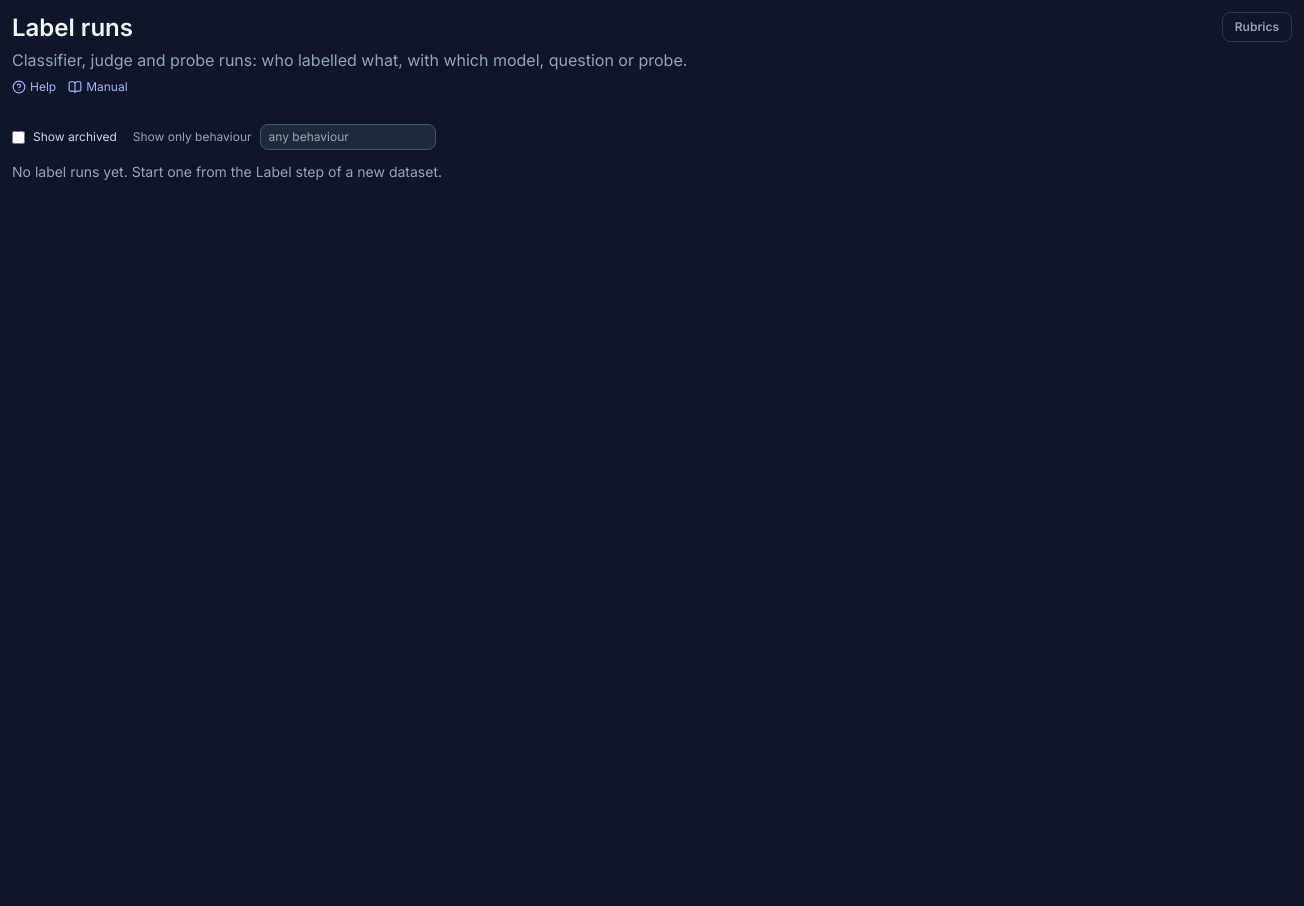
Scenario: Clone, import and export › clones with the body prefilled and edited, once
This screenshot has width=1304, height=906.
Click the button "Rubrics".
click(1257, 27)  # box [1222,12,1292,42]
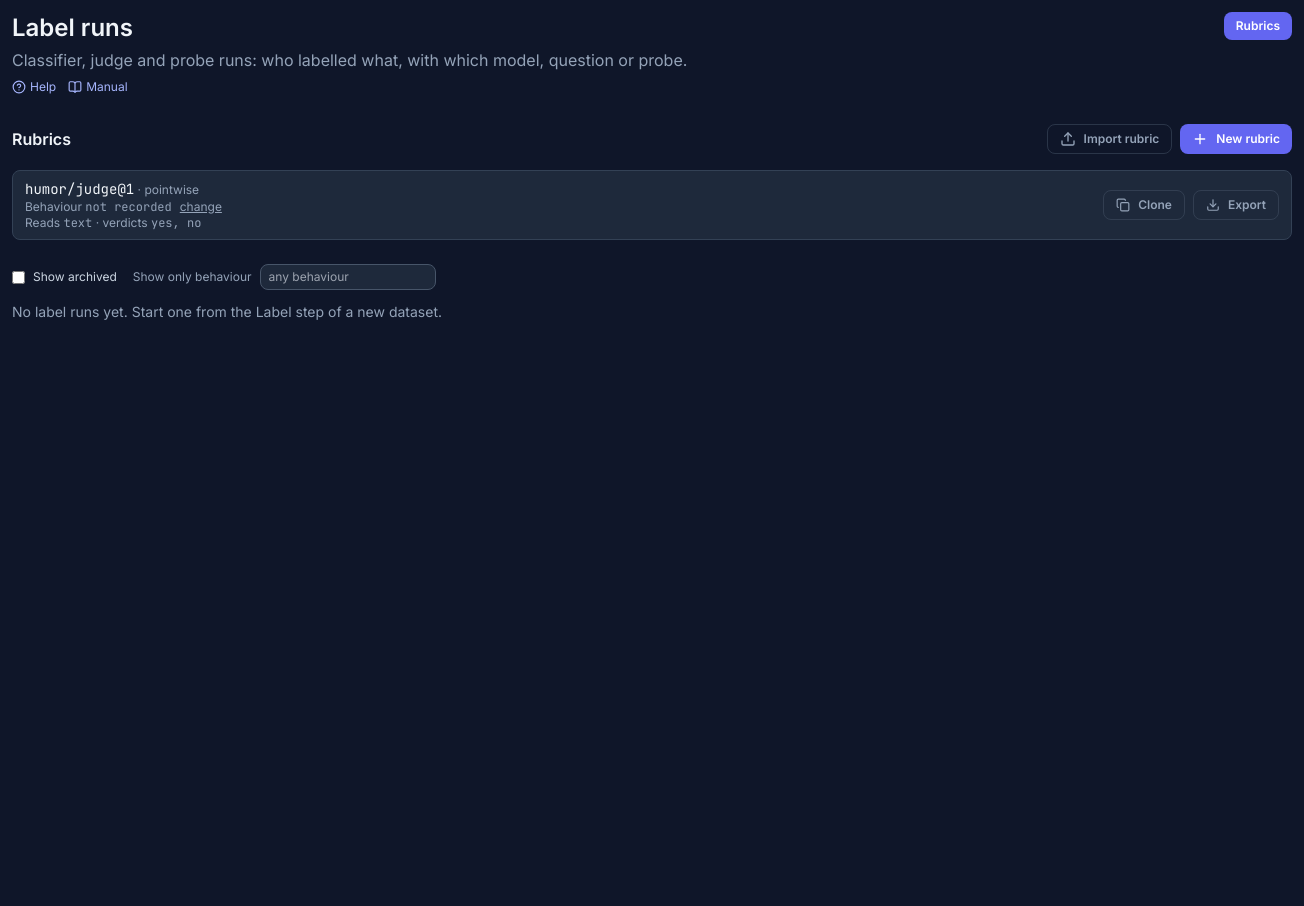
Result: the text "humor/judge@1" is shown at [25,180,134,198]
Click the button with aria-label "Clone humor/judge@1".
click(1144, 205)  # box [1103,190,1185,220]
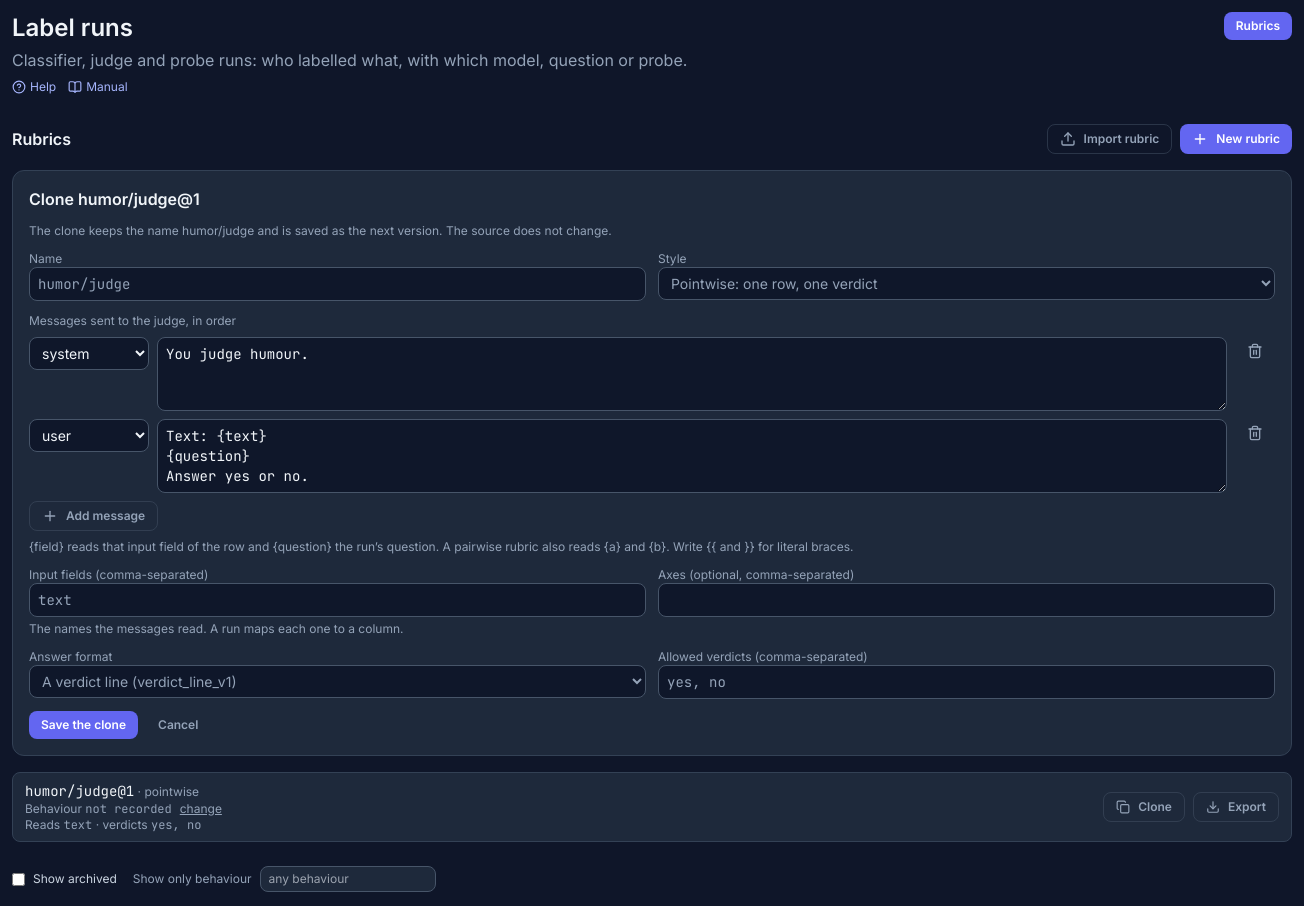
Result: the field named "Rubric name" is disabled at [29,267,646,301]
Result: the text box named "Message 1 content" holds "You judge humour." at [157,337,1227,411]
Replace the text in the field labelled "Allowed verdicts" with "yes, no, unsure" at {"x": 966, "y": 682}, box [658,665,1275,699]
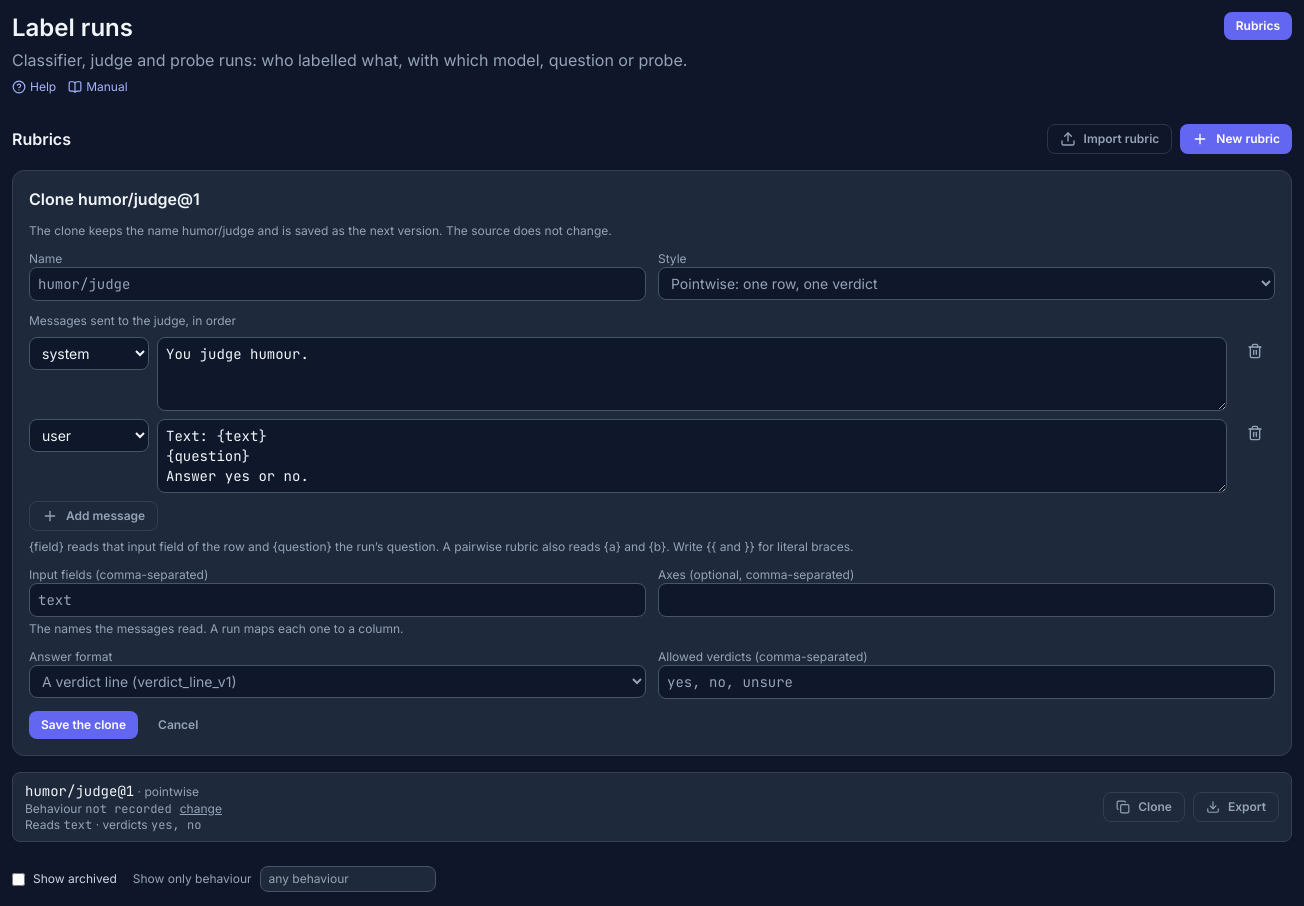
Click the button "Save the clone".
click(84, 725)  # box [29,711,138,739]
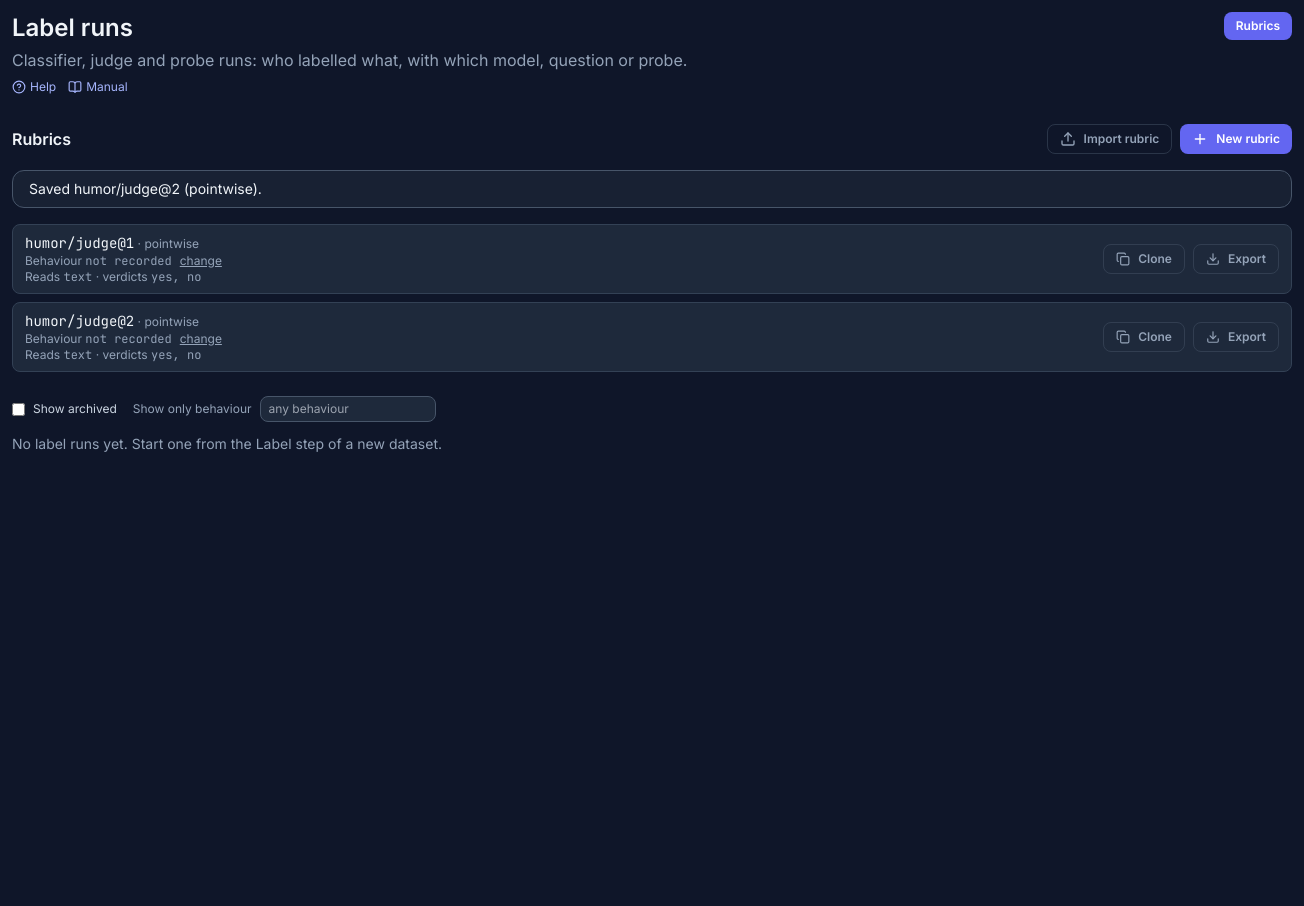
Result: the message with test id "rubric-notice" reads "Saved humor/judge@2 (pointwise)." at [29,180,262,197]
